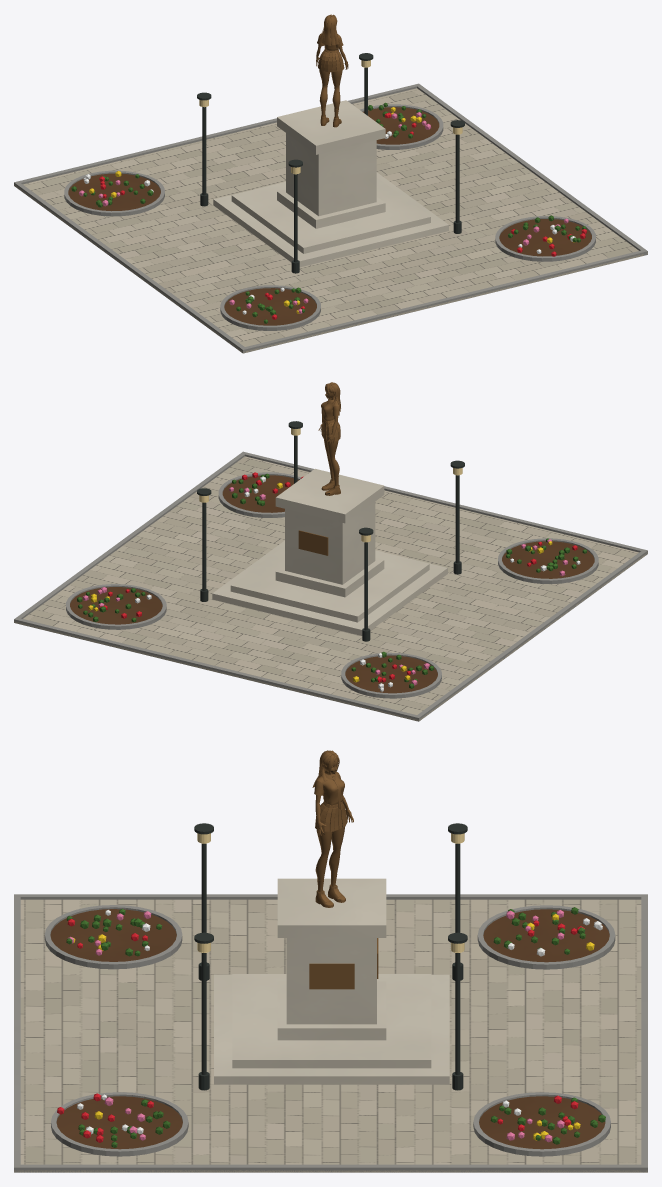
Rendered from dum_09_socha.glb.
3 renders of one model, top to bottom at view 1: azimuth 30°, elevation 25°; view 2: azimuth 150°, elevation 25°; view 3: azimuth 270°, elevation 25°, orthographic. The views are drawn at different scales.
Parts seen in each view (by area): view 1: dum; view 2: dum; view 3: dum.
Part boxes in pixels (x1,y1,x2,y2): dum: [14, 14, 647, 353]; dum: [14, 382, 647, 721]; dum: [14, 750, 647, 1172].
Size of the model in its own units: 13.93 by 6.75 by 13.65.
Materials: 1 (1 with a texture image).
